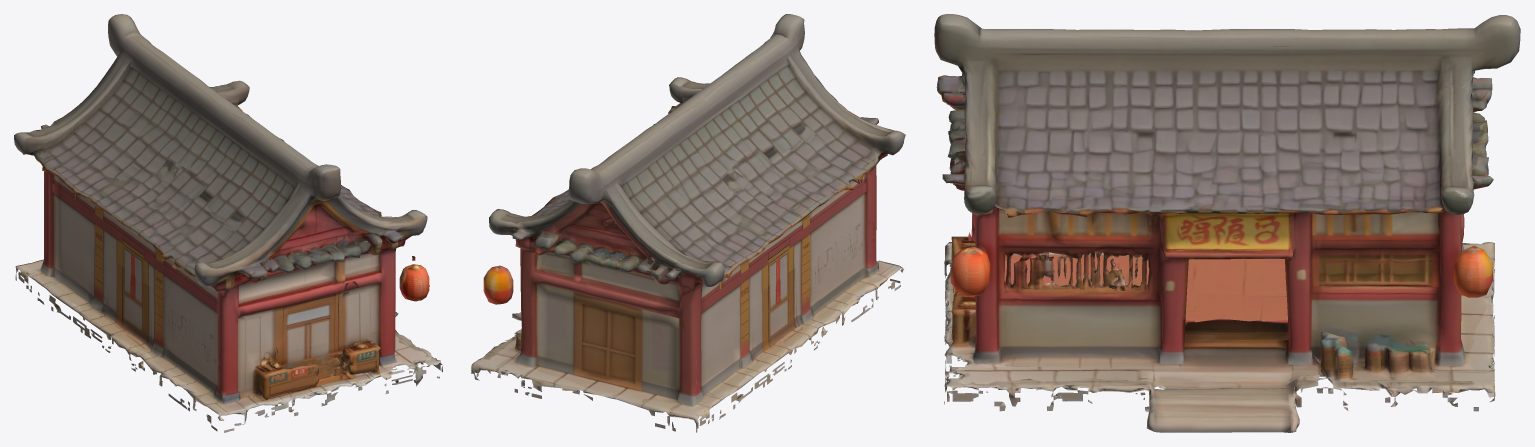
File: bq_teashop.hd.glb
3 renders of one model, left to right at view 1: azimuth 30°, elevation 25°; view 2: azimuth 150°, elevation 25°; view 3: azimuth 270°, elevation 25°, orthographic. The views are drawn at different scales.
Size of the model in its own units: 1.42 by 1.2 by 2.
1 material, 1 textured.
